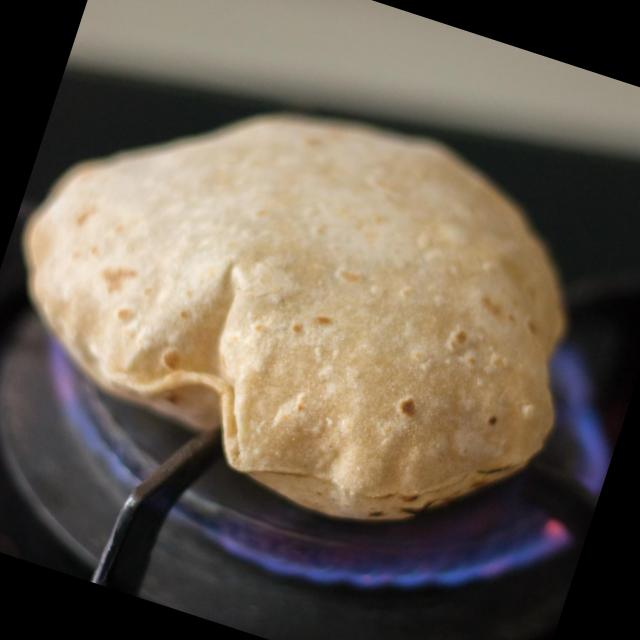roti: (27, 114, 568, 513)
